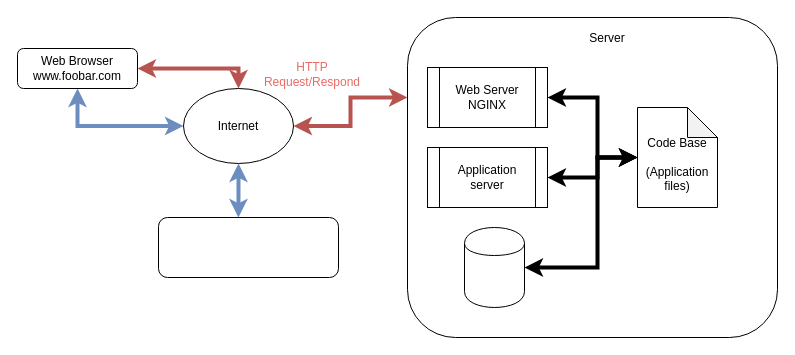
This 795x355 diagram has some shape labels left out. The shapes that lost their labels are listed below. From the top down, each one's centre as x and y in pixels, then its label:
point (248, 247): DNS "www.foobar.com" = IP(8.8.8.8)
point (494, 267): DB MySQL
